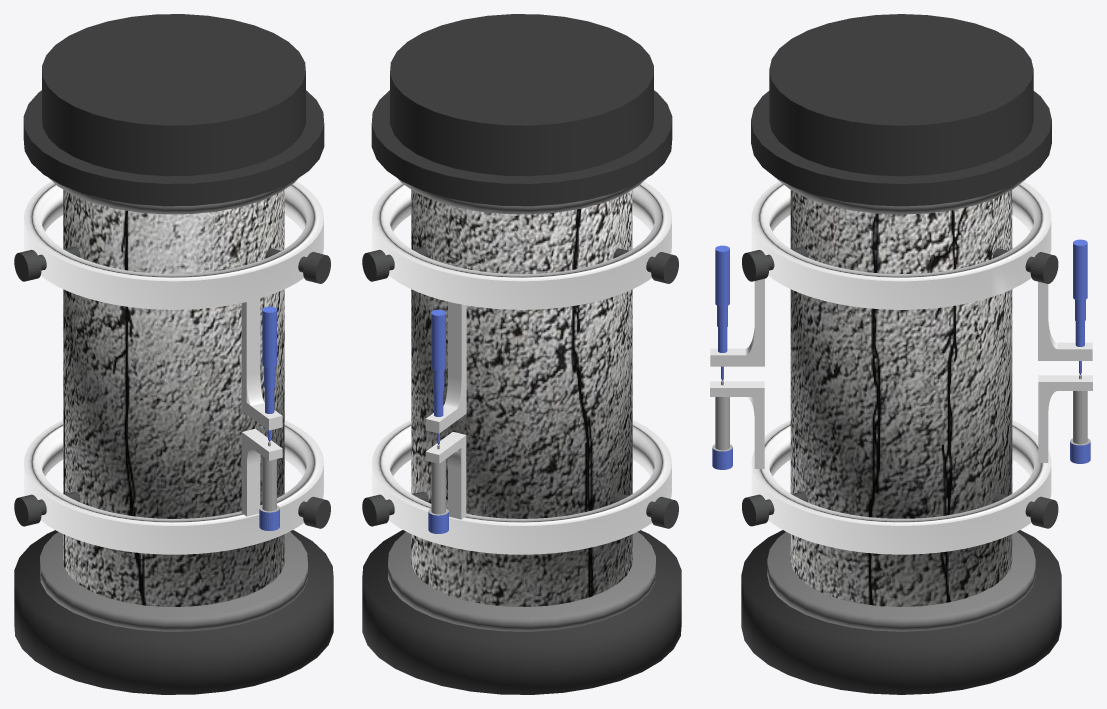
The model's file is cilindro-columnar.gltf.
3 renders of one model, left to right at view 1: azimuth 30°, elevation 25°; view 2: azimuth 150°, elevation 25°; view 3: azimuth 270°, elevation 25°, orthographic.
Parts seen in each view (by area): view 1: cilindroConcreto, apoyo_sup, compresometro, apoyo_inf, espuma_inf, espuma_sup; view 2: cilindroConcreto, apoyo_sup, compresometro, apoyo_inf, espuma_inf, espuma_sup; view 3: cilindroConcreto, apoyo_sup, compresometro, apoyo_inf, espuma_inf, espuma_sup.
Boxes of the visible parts, x1,y1,x2,y2 form: cilindroConcreto: [63, 190, 284, 606]; apoyo_sup: [23, 14, 324, 206]; compresometro: [14, 181, 330, 554]; apoyo_inf: [14, 530, 333, 694]; espuma_inf: [40, 531, 307, 631]; espuma_sup: [49, 178, 298, 214]; cilindroConcreto: [411, 190, 632, 606]; apoyo_sup: [371, 14, 672, 206]; compresometro: [362, 181, 678, 554]; apoyo_inf: [362, 530, 681, 694]; espuma_inf: [388, 531, 655, 631]; espuma_sup: [397, 178, 646, 214]; cilindroConcreto: [790, 190, 1012, 606]; apoyo_sup: [751, 14, 1051, 206]; compresometro: [710, 181, 1092, 554]; apoyo_inf: [741, 530, 1061, 694]; espuma_inf: [767, 532, 1035, 631]; espuma_sup: [777, 178, 1025, 214].
Bounding box in the file's own units: 0.2263 × 0.4159 × 0.2589.
7 materials, 1 textured.
